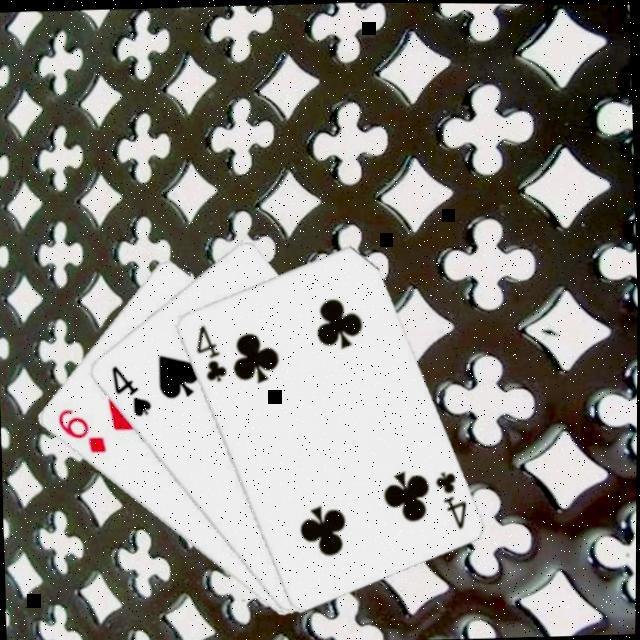4C: (430, 466, 469, 532), (190, 320, 228, 386)
4S: (106, 362, 154, 421)
6D: (52, 404, 108, 458)
